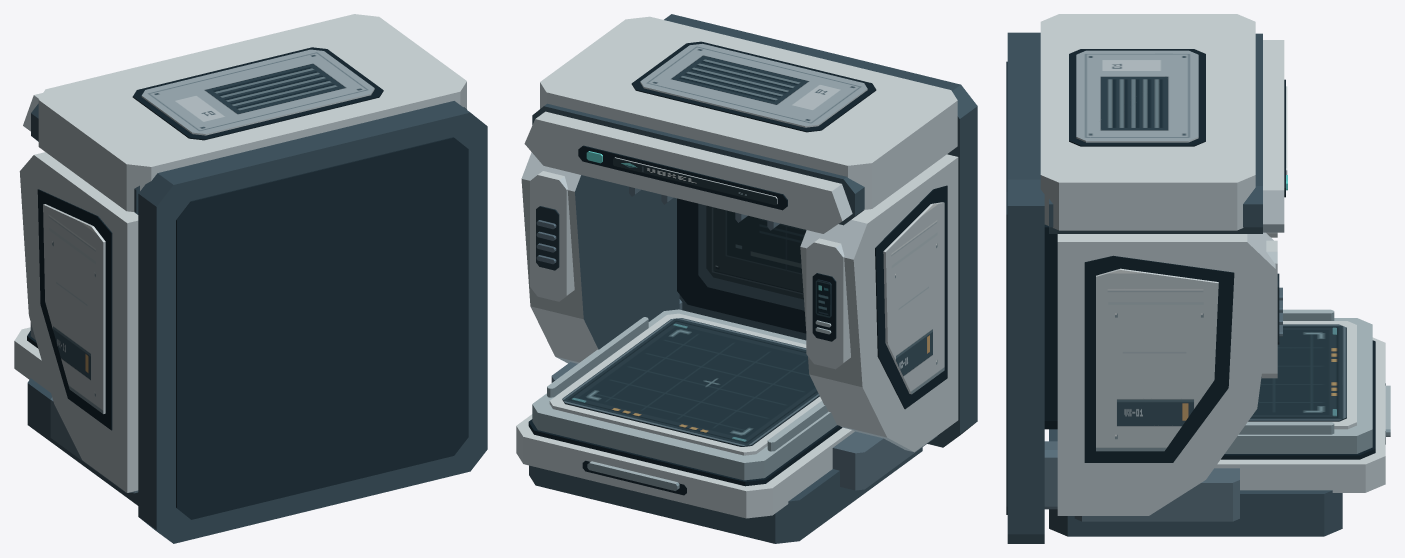
The model's file is voxel_printer_chassis.obj.
3 renders of one model, left to right at view 1: azimuth 30°, elevation 25°; view 2: azimuth 150°, elevation 25°; view 3: azimuth 270°, elevation 25°, orthographic. The views are drawn at different scales.
Visible parts, largest first — view 1: rear_isolation_panel_1, rear_structural_spine_0, crown_chamfered_shell_18, l_sculpted_side_shoulder_9, roof_removable_cover_24, l_floating_side_access_cover_11, l_recessed_side_gasket_10, roof_service_gasket_23, lower_chamfered_power_chassis_27, tray_floating_support_28, l_lower_cradle_bracket_25; view 2: crown_chamfered_shell_18, build_surface_32, r_sculpted_side_shoulder_13, l_sculpted_side_shoulder_9, header_tapered_brow_19, rear_structural_spine_0, roof_removable_cover_24, tray_floating_support_28, l_floating_side_access_cover_11, build_plate_rim_30, lower_chamfered_power_chassis_27, service_panel_inset_6 (+18 smaller); view 3: crown_chamfered_shell_18, r_sculpted_side_shoulder_13, r_floating_side_access_cover_15, rear_structural_spine_0, roof_removable_cover_24, r_recessed_side_gasket_14, lower_chamfered_power_chassis_27, build_surface_32, tray_floating_support_28, build_plate_rim_30, header_tapered_brow_19, r_lower_cradle_bracket_26 (+10 smaller).
Boxes of the visible parts, bbox=[...] form: rear_isolation_panel_1: bbox=[176, 137, 468, 519]; rear_structural_spine_0: bbox=[138, 101, 487, 543]; crown_chamfered_shell_18: bbox=[38, 14, 466, 212]; l_sculpted_side_shoulder_9: bbox=[19, 152, 138, 492]; roof_removable_cover_24: bbox=[141, 49, 374, 135]; l_floating_side_access_cover_11: bbox=[43, 204, 105, 413]; l_recessed_side_gasket_10: bbox=[37, 189, 112, 430]; roof_service_gasket_23: bbox=[132, 47, 383, 140]; lower_chamfered_power_chassis_27: bbox=[27, 378, 138, 505]; tray_floating_support_28: bbox=[14, 327, 50, 392]; l_lower_cradle_bracket_25: bbox=[50, 397, 138, 493]; crown_chamfered_shell_18: bbox=[540, 16, 957, 209]; build_surface_32: bbox=[562, 318, 819, 446]; r_sculpted_side_shoulder_13: bbox=[521, 152, 679, 363]; l_sculpted_side_shoulder_9: bbox=[800, 154, 958, 452]; header_tapered_brow_19: bbox=[524, 111, 852, 233]; rear_structural_spine_0: bbox=[664, 14, 977, 447]; roof_removable_cover_24: bbox=[640, 43, 867, 127]; tray_floating_support_28: bbox=[516, 414, 854, 518]; l_floating_side_access_cover_11: bbox=[883, 202, 944, 394]; build_plate_rim_30: bbox=[532, 309, 836, 480]; lower_chamfered_power_chassis_27: bbox=[529, 447, 922, 543]; service_panel_inset_6: bbox=[706, 205, 806, 299]; crown_chamfered_shell_18: bbox=[1040, 14, 1255, 230]; r_sculpted_side_shoulder_13: bbox=[1057, 232, 1275, 515]; r_floating_side_access_cover_15: bbox=[1096, 268, 1218, 451]; rear_structural_spine_0: bbox=[1007, 32, 1044, 543]; roof_removable_cover_24: bbox=[1076, 50, 1198, 142]; r_recessed_side_gasket_14: bbox=[1084, 255, 1234, 462]; lower_chamfered_power_chassis_27: bbox=[1049, 429, 1342, 536]; build_surface_32: bbox=[1248, 324, 1346, 421]; tray_floating_support_28: bbox=[1214, 337, 1385, 492]; build_plate_rim_30: bbox=[1225, 318, 1372, 453]; header_tapered_brow_19: bbox=[1263, 40, 1284, 232]; r_lower_cradle_bracket_26: bbox=[1074, 468, 1239, 521].
Size of the model in its own units: 0.9 by 0.9062 by 0.8425.
